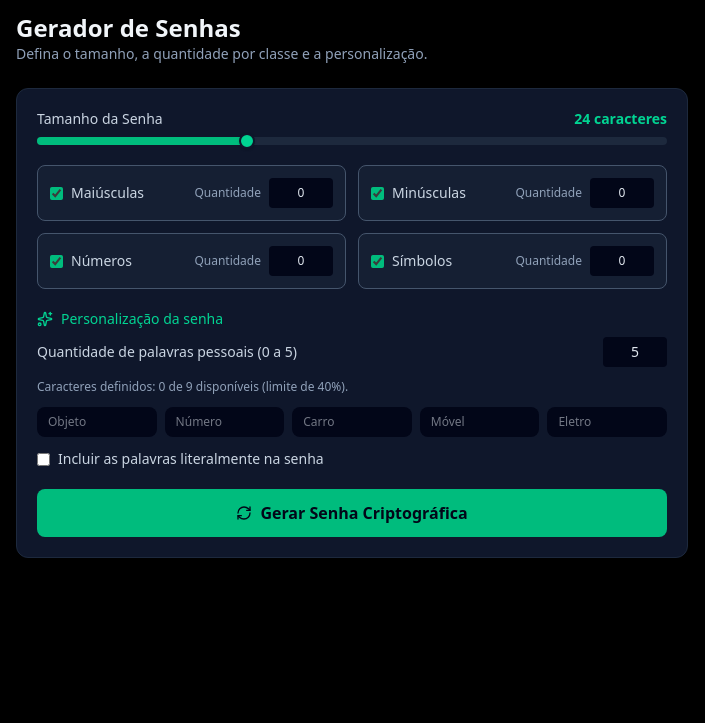
Generator › mede a força da senha gerada
Click the button "Gerar Senha Criptográfica" at (352, 513), box [37,489,667,537]
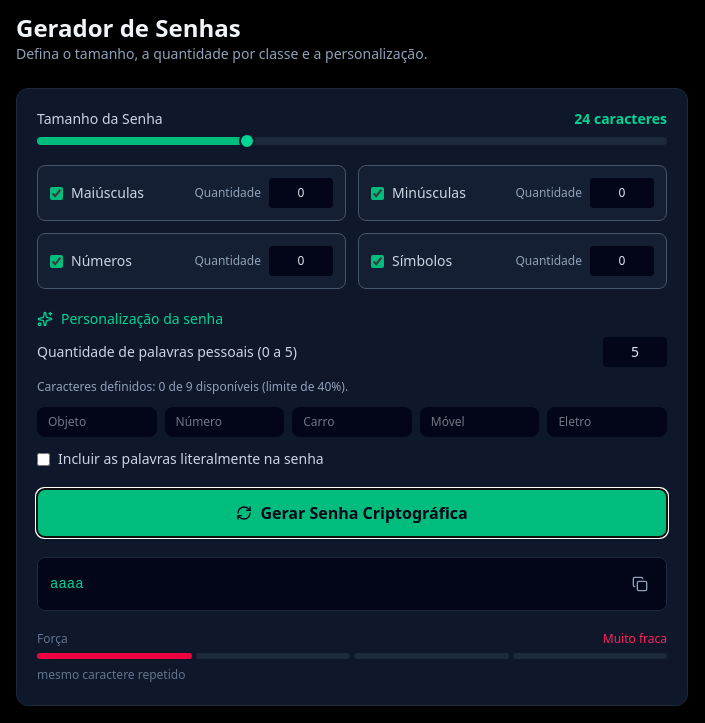
Expected: the text "Muito fraca" is shown, [603,631,667,647]
